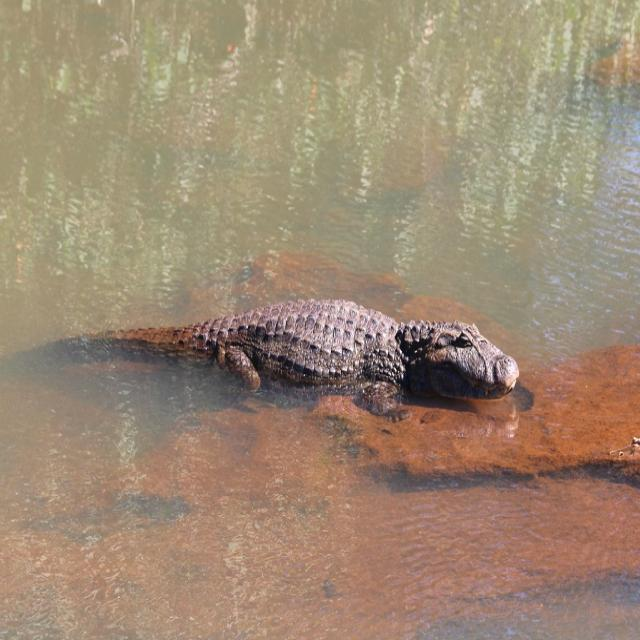crocodile: (60, 294, 523, 412)
